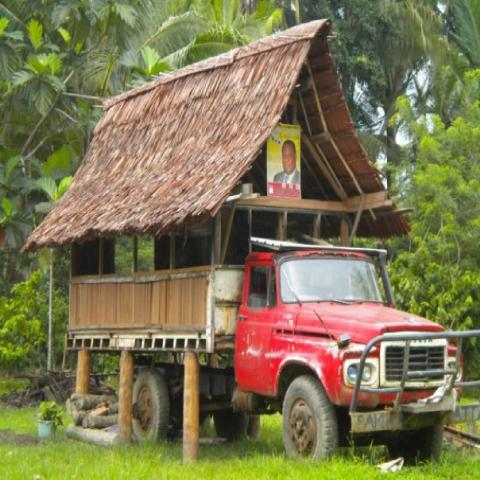truck: (25, 24, 465, 452)
